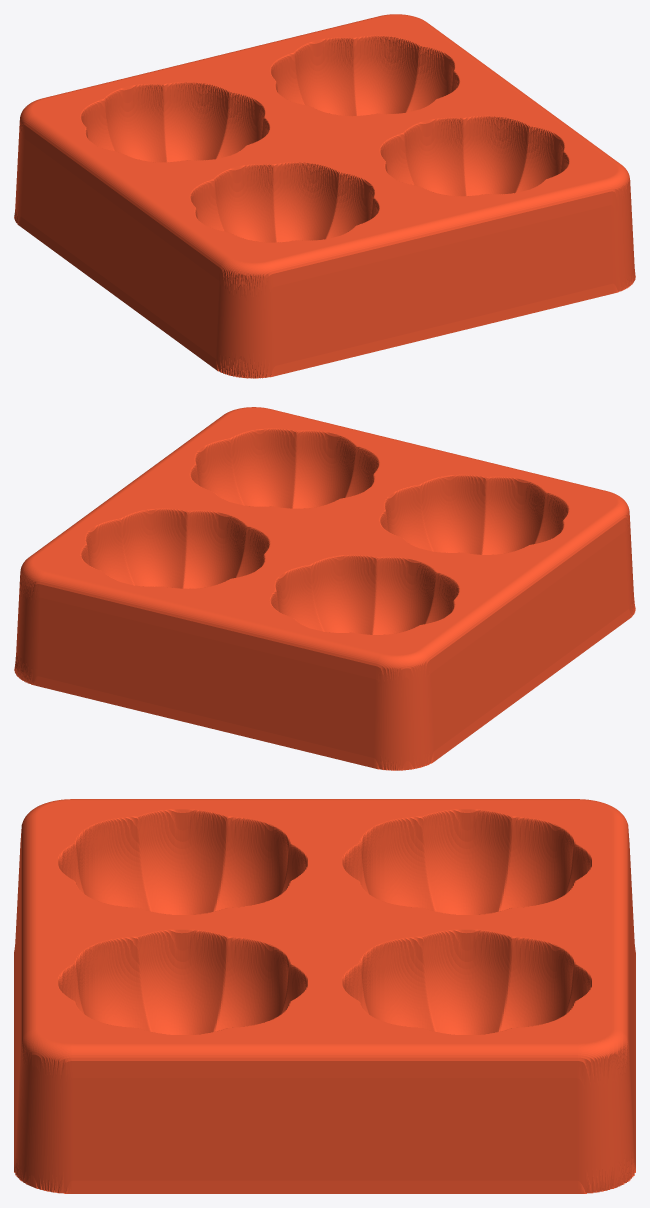
File: mold.glb
3 renders of one model, top to bottom at view 1: azimuth 30°, elevation 25°; view 2: azimuth 150°, elevation 25°; view 3: azimuth 270°, elevation 25°, orthographic. The views are drawn at different scales.
Parts seen in each view (by area): view 1: geometry_0; view 2: geometry_0; view 3: geometry_0.
Boxes of the visible parts, bbox=[...] form: geometry_0: bbox=[14, 14, 635, 378]; geometry_0: bbox=[14, 407, 635, 770]; geometry_0: bbox=[14, 799, 635, 1193].
Size of the model in its own units: 0.0962 by 0.0239 by 0.0962.
